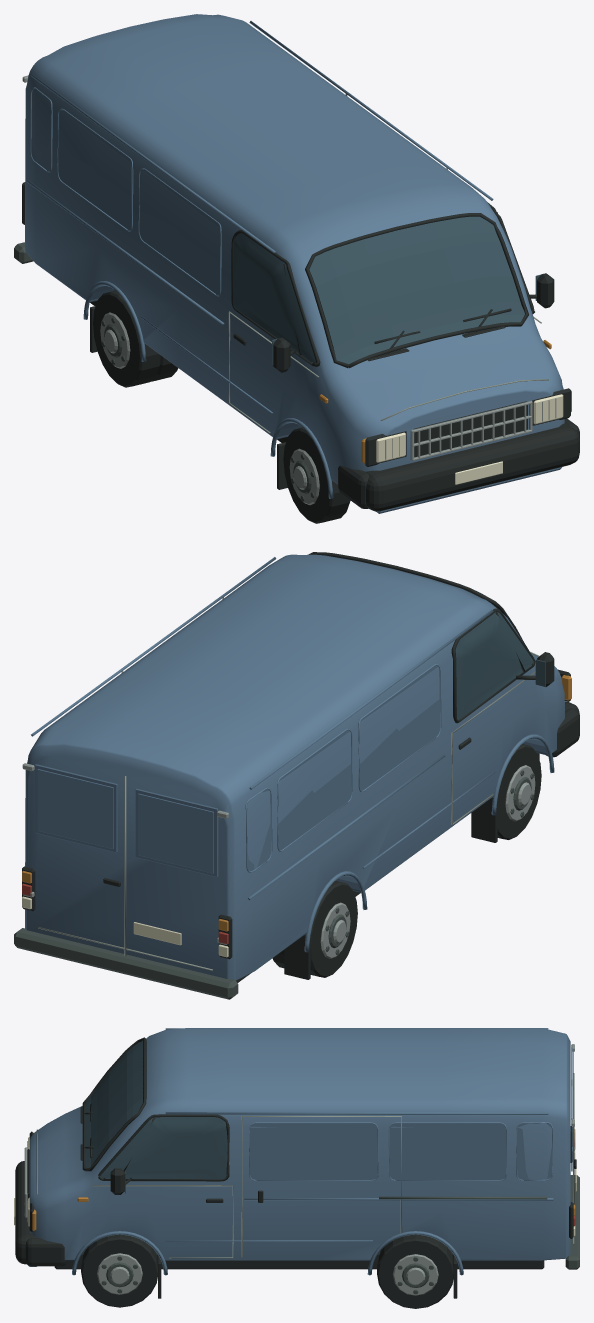
File: gazelle_2705_blue.glb
3 renders of one model, top to bottom at view 1: azimuth 30°, elevation 25°; view 2: azimuth 150°, elevation 25°; view 3: azimuth 270°, elevation 25°, orthographic. The views are drawn at different scales.
Visible parts, largest first — view 1: GAZ_2705.001; view 2: GAZ_2705.001; view 3: GAZ_2705.001.
Boxes of the visible parts, x1,y1,x2,y2 form: GAZ_2705.001: (14, 14, 579, 523); GAZ_2705.001: (14, 552, 579, 999); GAZ_2705.001: (14, 1028, 579, 1308).
Bounding box in the file's own units: 2.07 × 1.9 × 4.61.
Materials: 3 (3 with a texture image).
